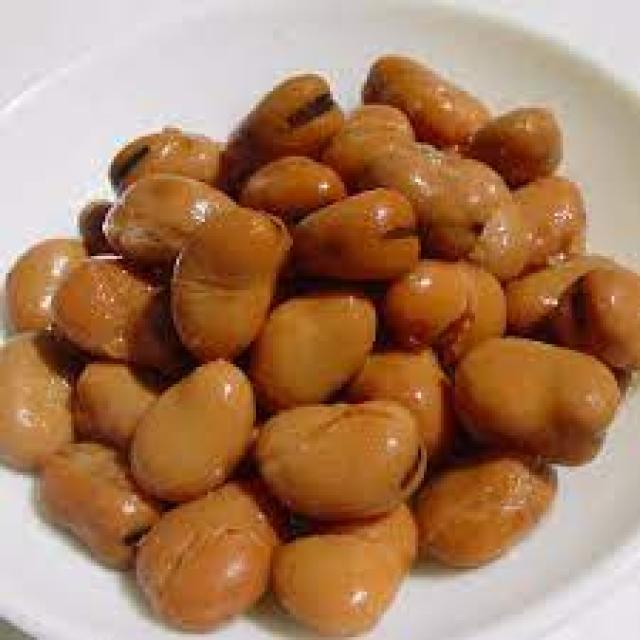fool: (3, 57, 640, 637)
